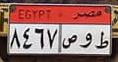4: (21, 27, 33, 50)
6: (34, 27, 45, 51)
7: (47, 28, 58, 52)
8: (9, 26, 21, 50)
Taa: (94, 30, 109, 53)
saad: (61, 32, 78, 51)
waw: (78, 31, 92, 51)
